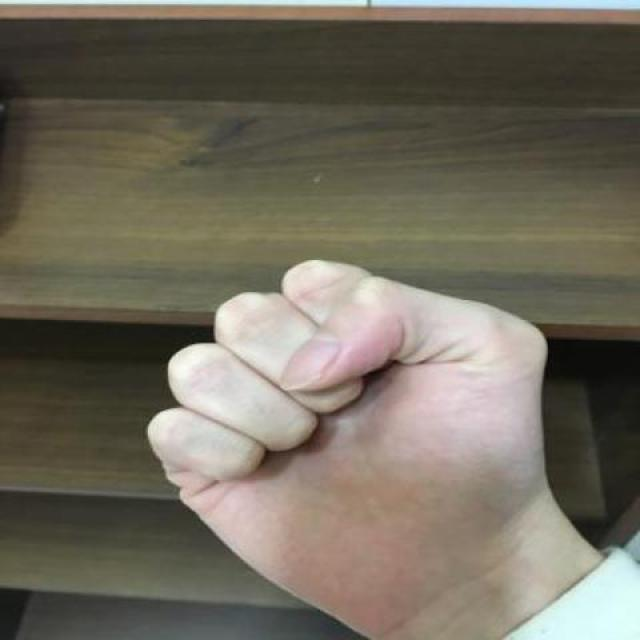Closed Hand: (90, 251, 571, 608)
